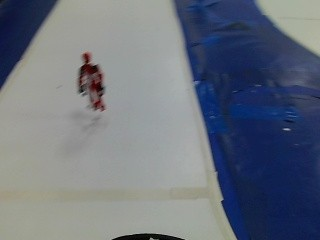pedestrian: (74, 50, 106, 112)
